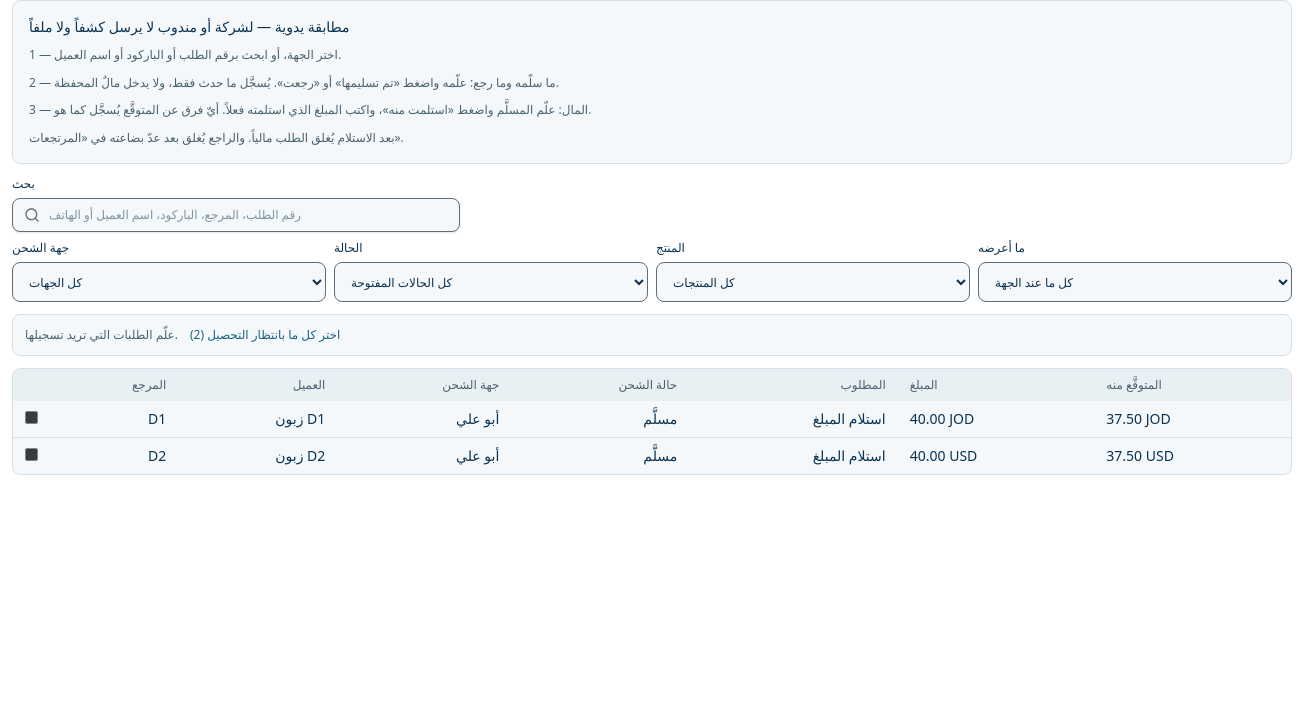
Test: what the ticked parcels ask for › and in two currencies likewise — the door refuses a mixture, so the button is never offered one
Expected: the dropdown labelled "جهة الشحن" is shown, [12, 262, 326, 302]
Expected: the row "D1 زبون D1 أبو علي مسلَّم استلام المبلغ 40.00 JOD 37.50 JOD" is shown, [13, 401, 1291, 438]
Step 1. Click the checkbox named "اختر السجل" in the row of "زبون D1" → (32, 418), box [25, 411, 38, 424]
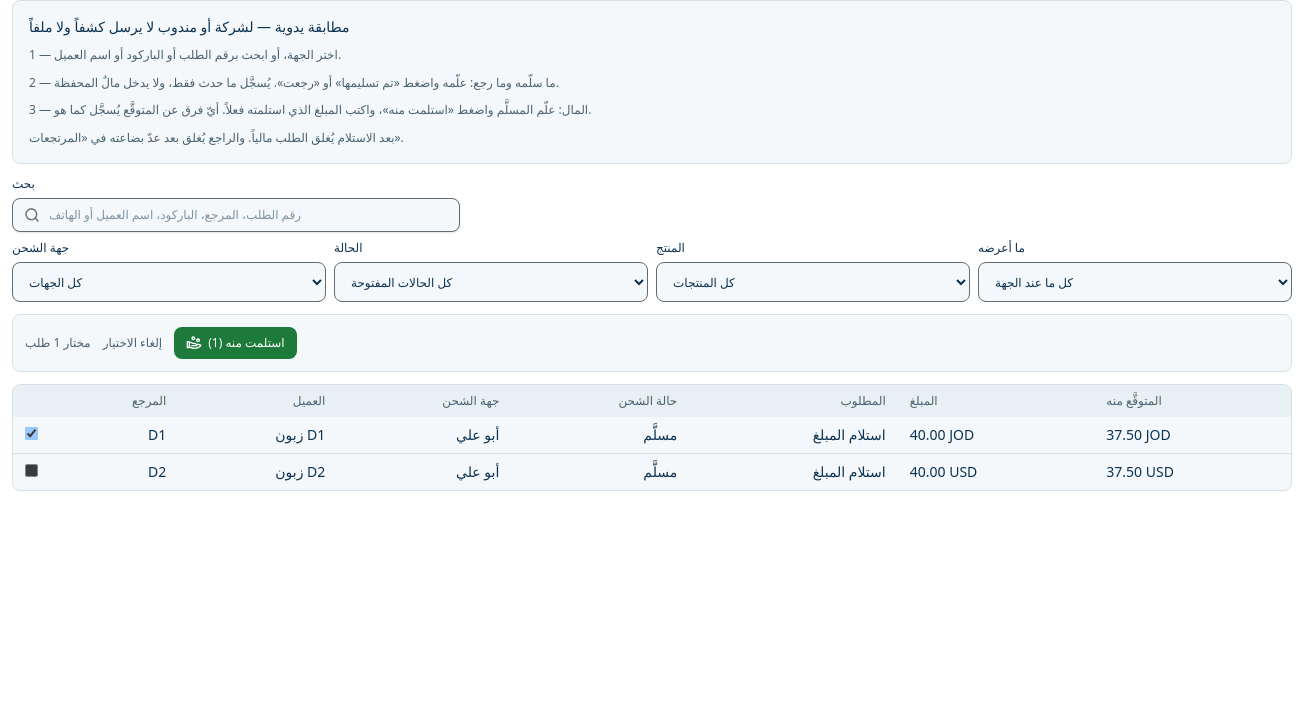
Step 2. Click the checkbox named "اختر السجل" → (32, 470), box [25, 464, 38, 477]
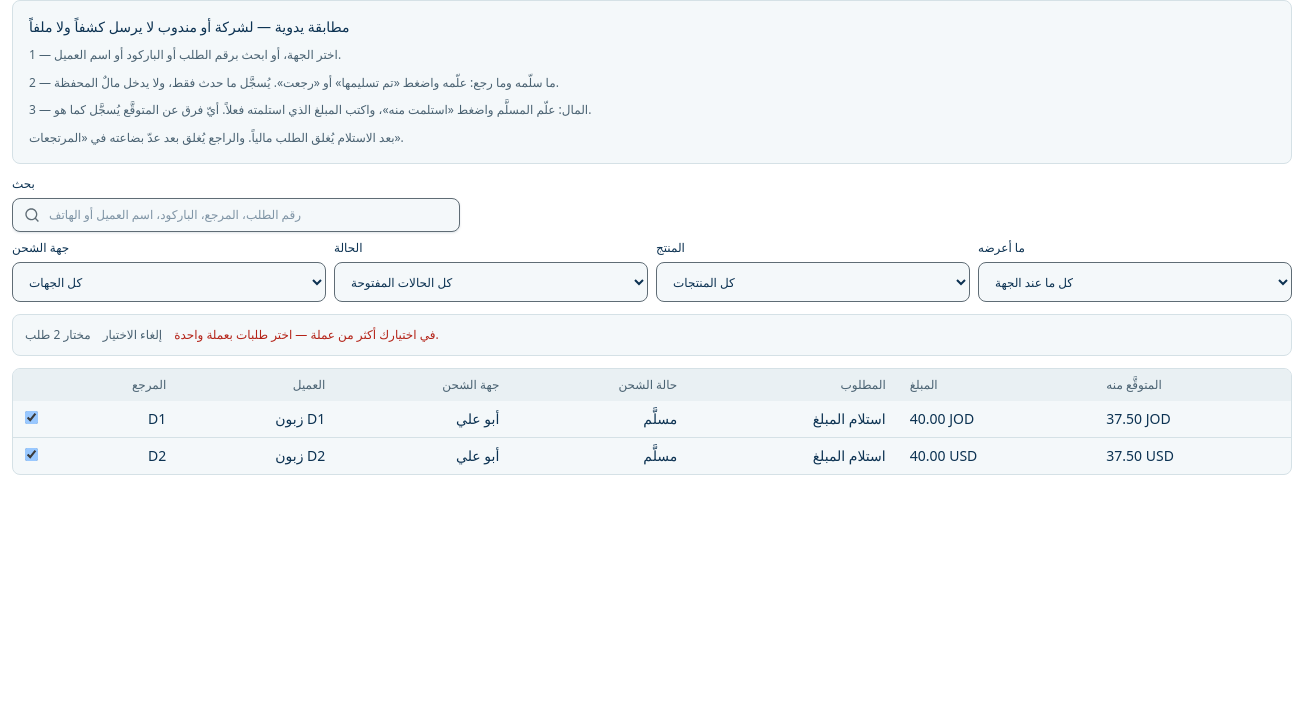
Expected: the text "أكثر من عملة" is shown, [174, 326, 439, 343]
Expected: the button "استلمت منه (" is gone
